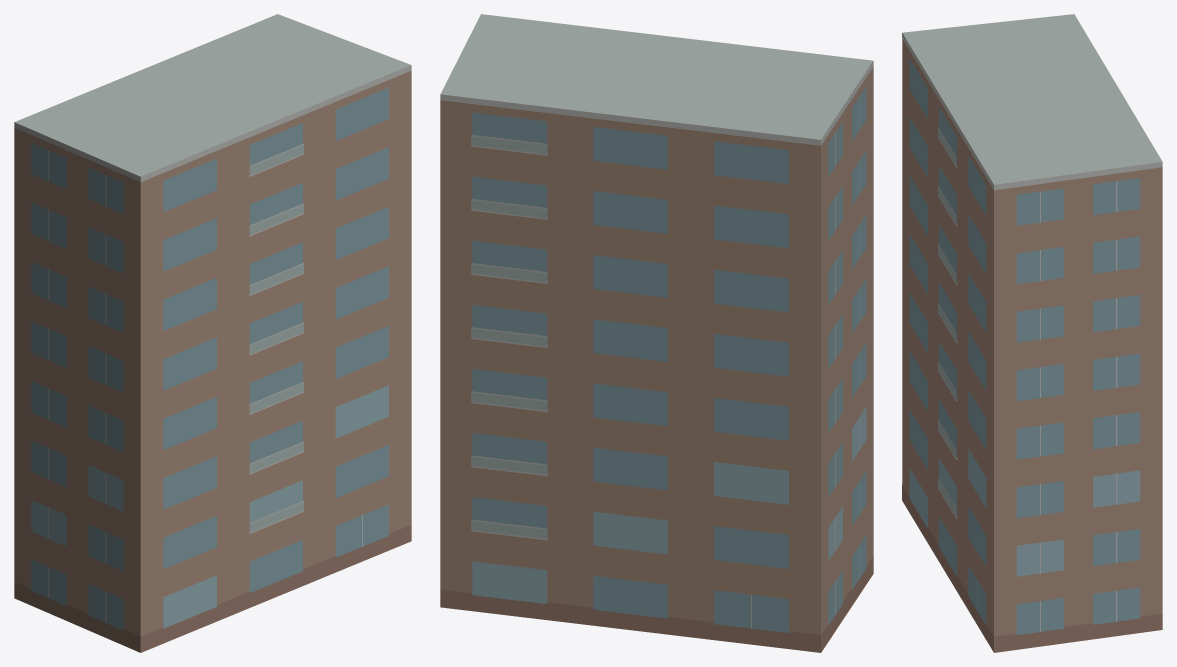
Rendered from survey-upis-32564665.glb.
The picture shows the model from 3 angles, left to right: view 1: azimuth 30°, elevation 25°; view 2: azimuth 150°, elevation 25°; view 3: azimuth 270°, elevation 25°; orthographic projection. The views are drawn at different scales.
Parts seen in each view (by area): view 1: survey-upis-32564665.tmp; view 2: survey-upis-32564665.tmp; view 3: survey-upis-32564665.tmp.
Part boxes in pixels (bbox=[...]): survey-upis-32564665.tmp: bbox=[14, 14, 411, 652]; survey-upis-32564665.tmp: bbox=[440, 14, 873, 652]; survey-upis-32564665.tmp: bbox=[902, 14, 1162, 652].
Size of the model in its own units: 16.58 by 21.15 by 10.68.
